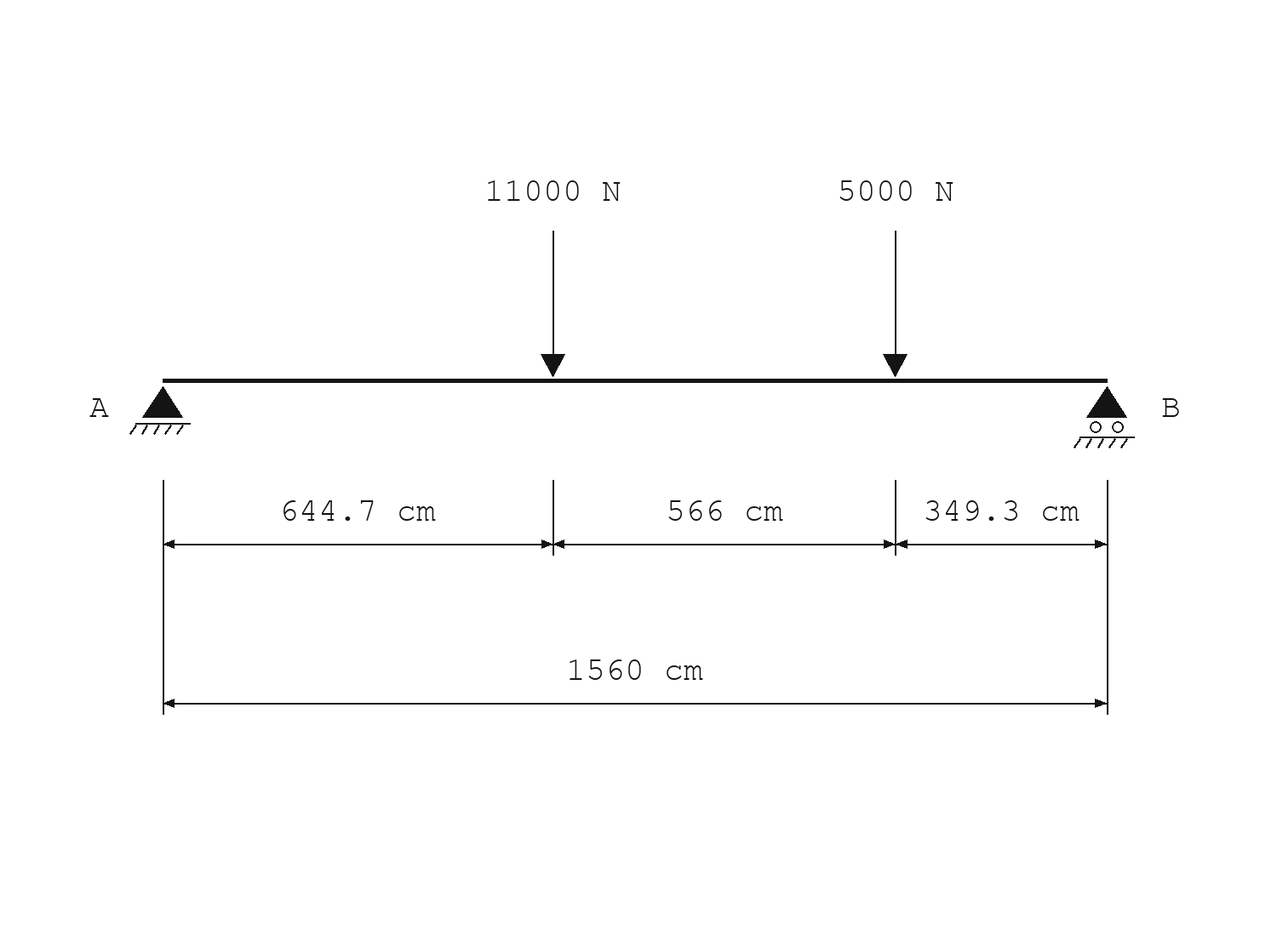pin_support: (129, 386, 191, 435)
point_load: (883, 231, 908, 377), (541, 231, 565, 377)
roller_support: (1074, 386, 1135, 448)
